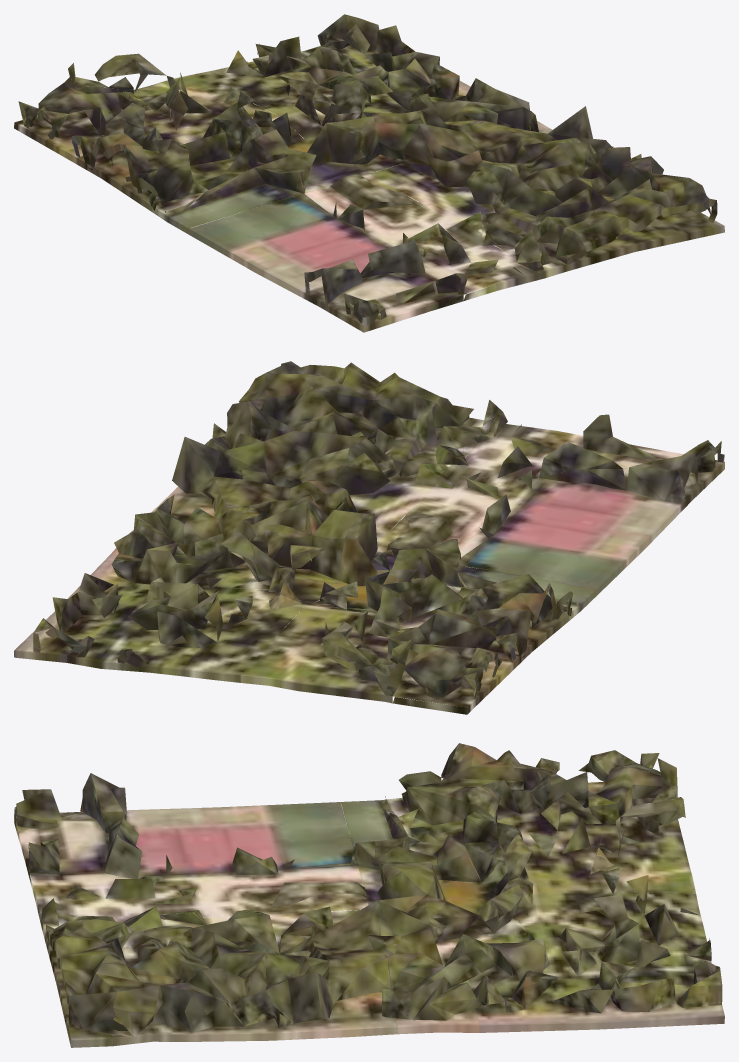
3 views of the same model, one above another, from view 1: azimuth 30°, elevation 25°; view 2: azimuth 150°, elevation 25°; view 3: azimuth 270°, elevation 25° (orthographic). The views are drawn at different scales.
Visible parts, largest first — view 1: Mesh_0; view 2: Mesh_0; view 3: Mesh_0.
Boxes of the visible parts, box(x1,y1,x2,y2) form: Mesh_0: box(14, 14, 724, 332); Mesh_0: box(14, 361, 724, 714); Mesh_0: box(14, 743, 724, 1047).
Bounding box in the file's own units: 266 × 45.87 × 330.
2 materials, 2 textured.
